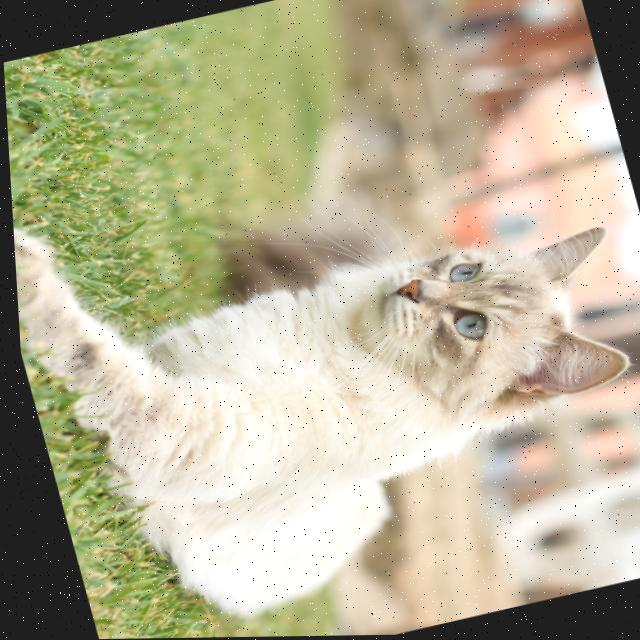Neva Masquerade: (4, 88, 640, 640)
